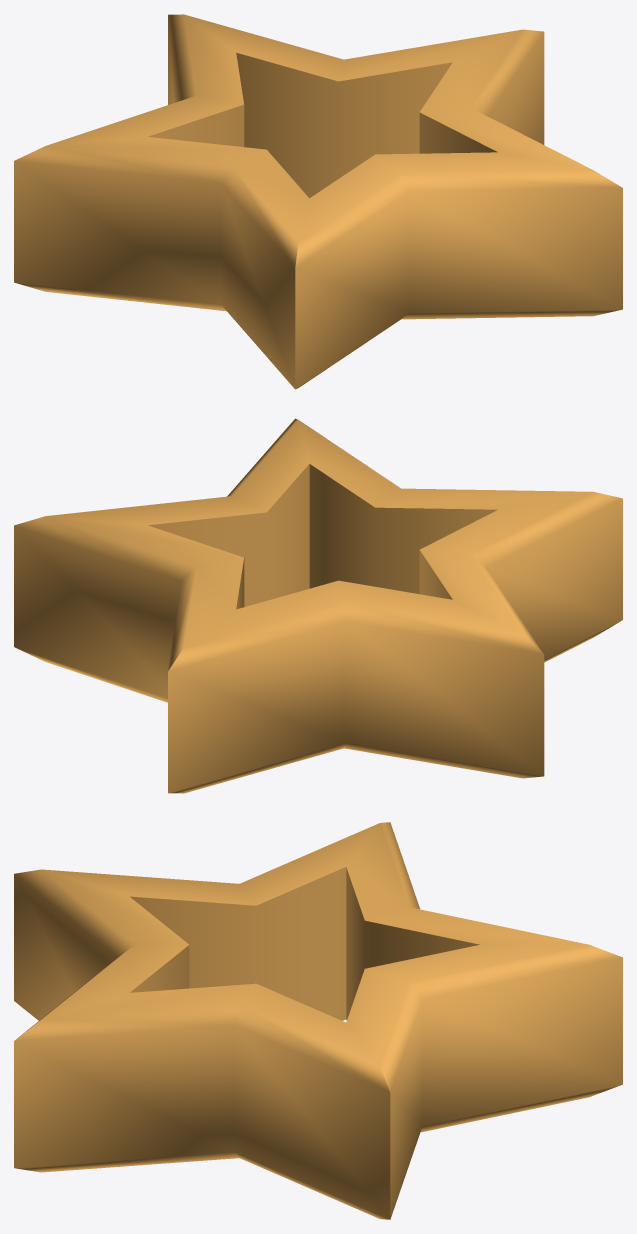
File: Star_5P_05.fbx
The picture shows the model from 3 angles, top to bottom: view 1: azimuth 30°, elevation 25°; view 2: azimuth 150°, elevation 25°; view 3: azimuth 270°, elevation 25°; orthographic projection. The views are drawn at different scales.
Parts seen in each view (by area): view 1: Star_5P_05; view 2: Star_5P_05; view 3: Star_5P_05.
Boxes of the visible parts, x1=… form: Star_5P_05: x1=14, y1=14, x2=622, y2=389; Star_5P_05: x1=14, y1=418, x2=622, y2=793; Star_5P_05: x1=14, y1=822, x2=622, y2=1219.
Bounding box in the file's own units: 380 × 100 × 362.
